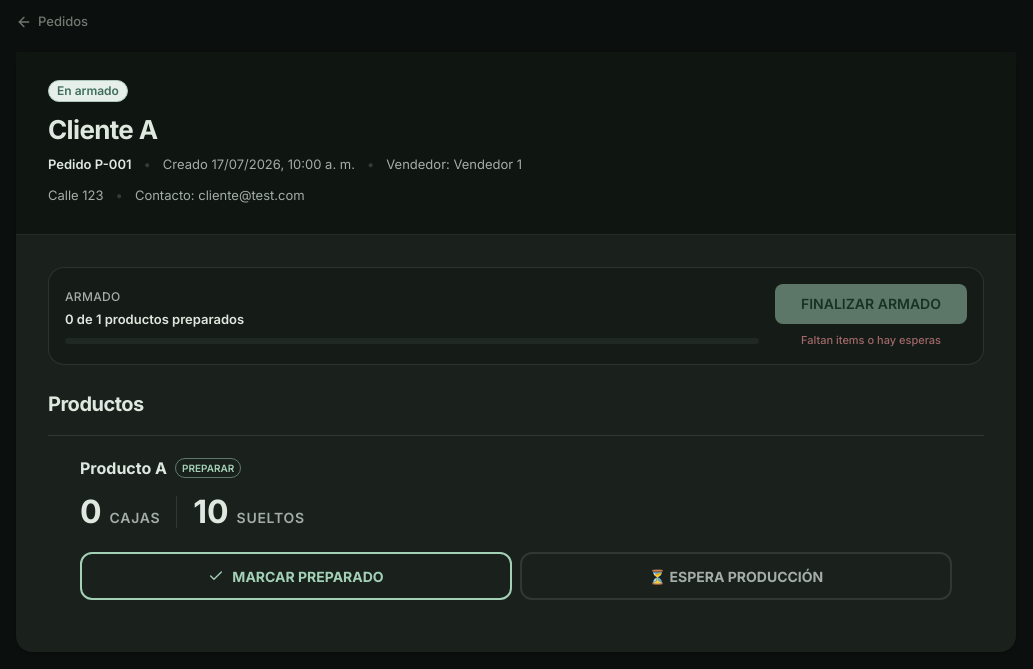
Test: PedidoDetailPage › DESIGN-01 — Armador: preparado / desmarcar states › after marking preparado: badge ✓ PREPARADO appears and count updates
Expected: the text "Pedido P-001" is shown, [48,154,132,174]
Click the button "MARCAR PREPARADO" at (296, 576), box [80,552,512,600]
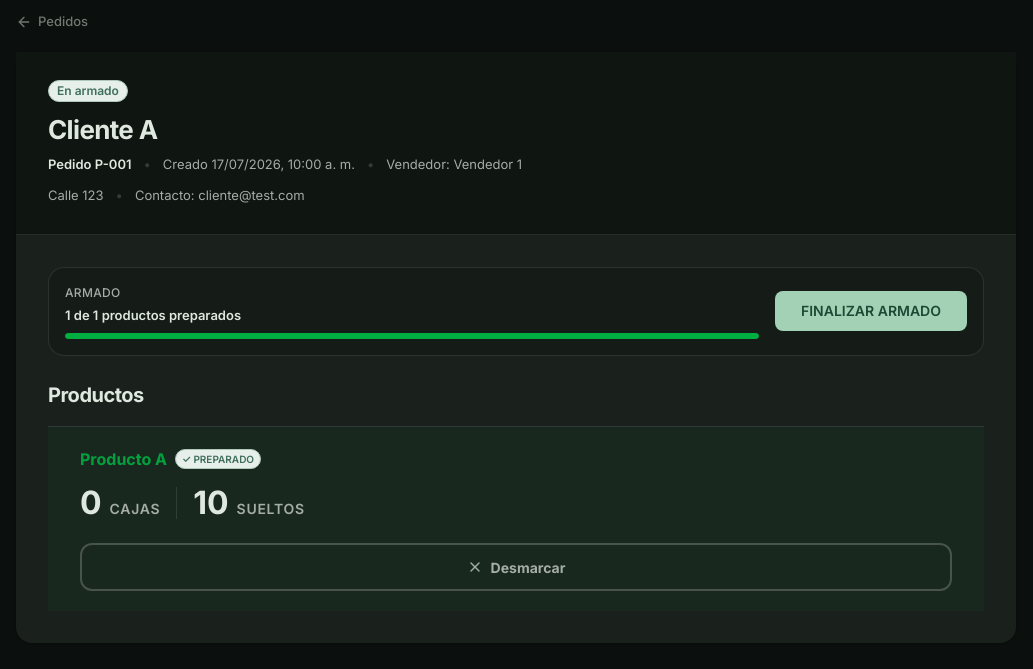
Result: the text "1 de 1 productos preparados" is shown at [65,306,241,322]
